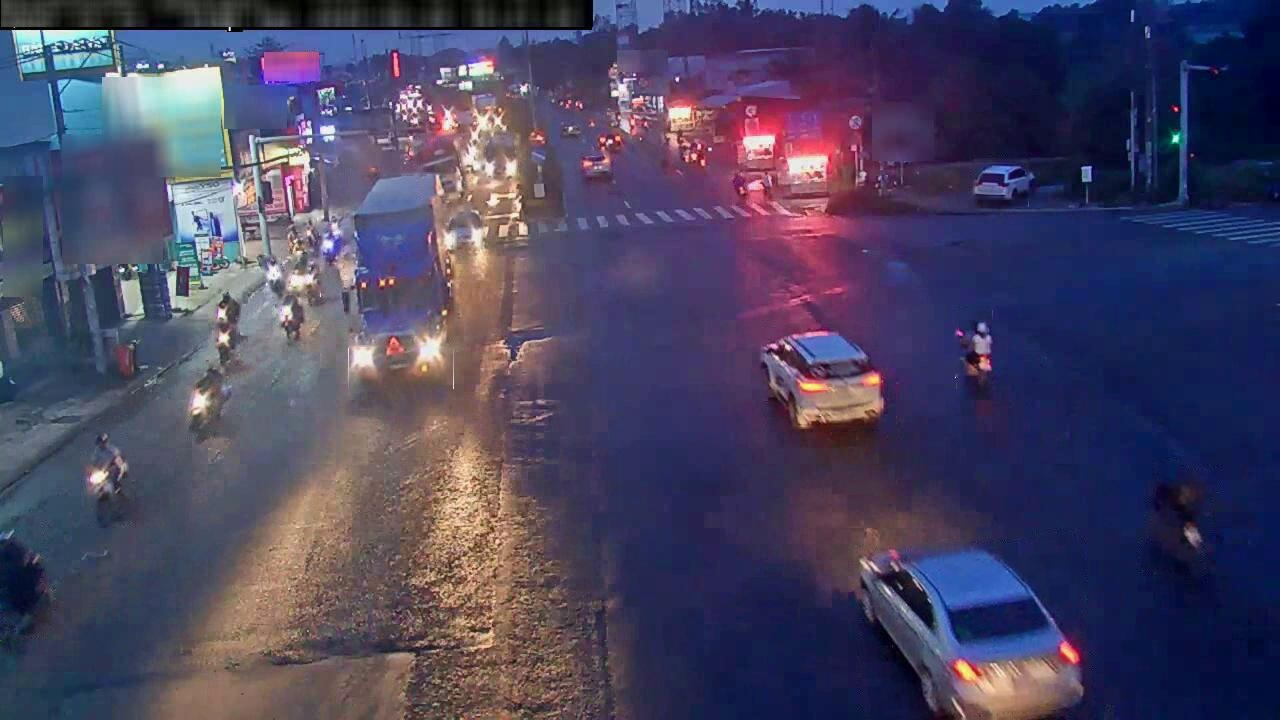Bus: (482, 132, 517, 180)
Car: (857, 548, 1083, 719), (760, 330, 884, 428), (973, 165, 1035, 203), (445, 210, 484, 250), (286, 265, 323, 304), (732, 172, 772, 199), (580, 152, 611, 179), (560, 123, 581, 137)
Motorcycle: (188, 374, 231, 432)
Motorcyclist: (1149, 475, 1211, 574), (0, 529, 51, 641), (86, 432, 128, 524), (959, 321, 992, 391), (280, 295, 304, 341), (215, 322, 236, 365), (320, 227, 342, 264), (217, 291, 240, 326), (287, 254, 307, 290), (265, 257, 282, 293), (299, 221, 317, 247)
Traffic light: (1168, 103, 1184, 146)
Truck: (347, 175, 452, 396), (412, 136, 464, 197)
